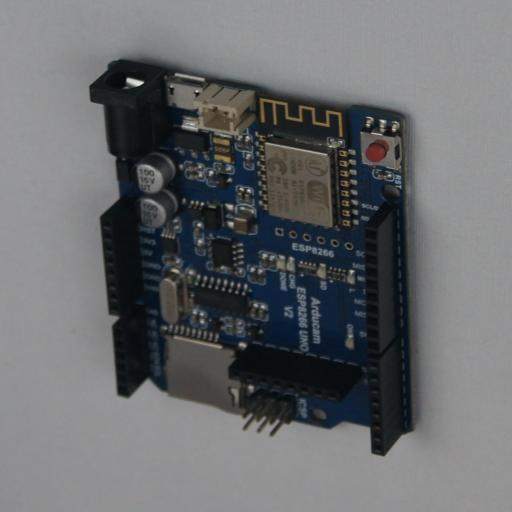Arduino Uno Camera Shield: (89, 57, 420, 456)
